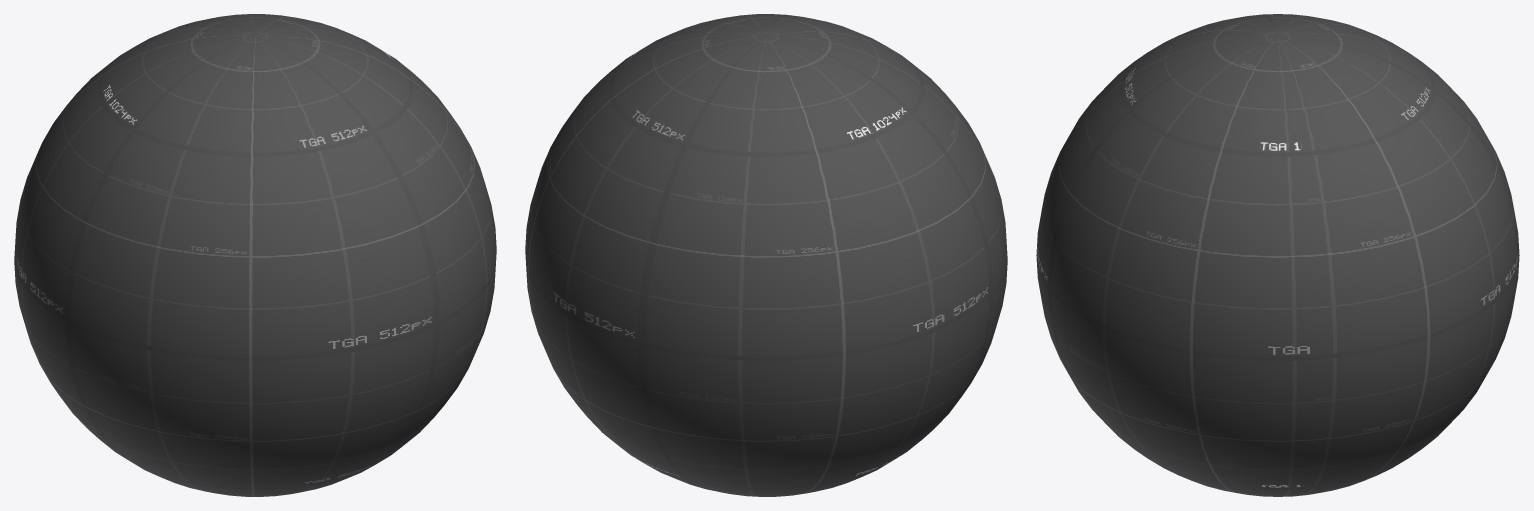
File: SM_defaultSphere.fbx
3 views of the same model, side by side, from view 1: azimuth 30°, elevation 25°; view 2: azimuth 150°, elevation 25°; view 3: azimuth 270°, elevation 25° (orthographic).
Visible parts, largest first — view 1: SM_defaultSphere; view 2: SM_defaultSphere; view 3: SM_defaultSphere.
Part boxes in pixels (left/top/right/bottom): SM_defaultSphere: left=14, top=14, right=496, bottom=496; SM_defaultSphere: left=525, top=14, right=1007, bottom=496; SM_defaultSphere: left=1036, top=14, right=1519, bottom=496.
Bounding box in the file's own units: 100 × 100 × 100.
1 material, 1 textured.
